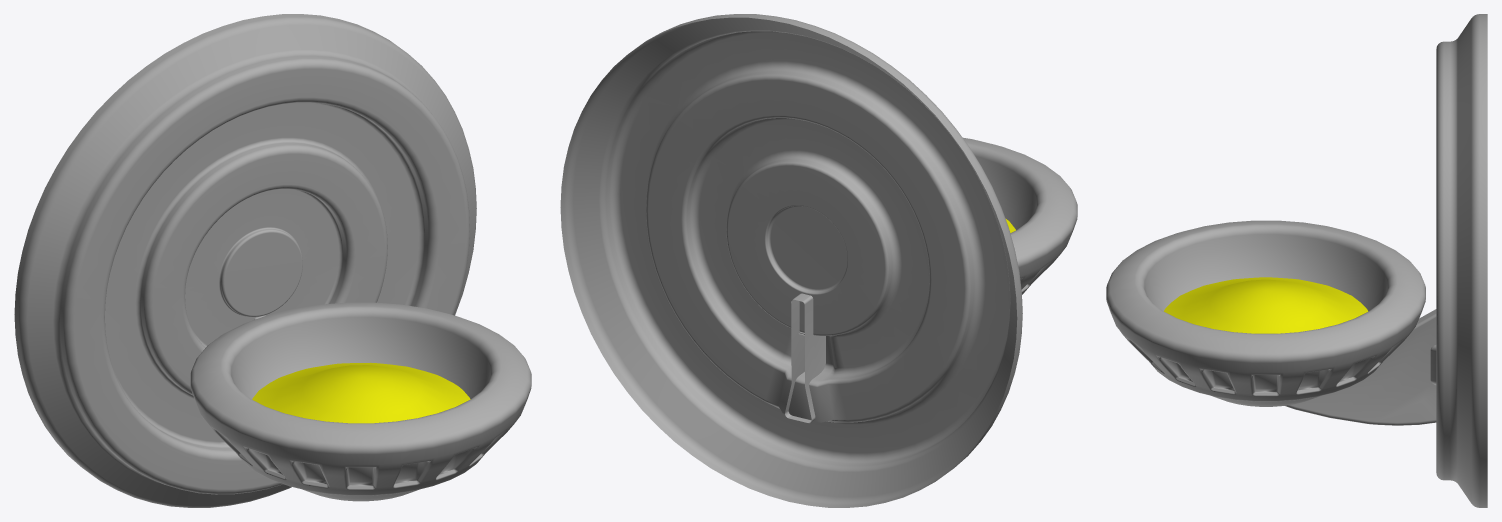
Rendered from M6_HM_P_WallTorch_26-07-2020.fbx.
3 views of the same model, side by side, from view 1: azimuth 30°, elevation 25°; view 2: azimuth 150°, elevation 25°; view 3: azimuth 270°, elevation 25° (orthographic). The views are drawn at different scales.
Visible parts, largest first — view 1: pCylinder4; view 2: pCylinder4; view 3: pCylinder4.
Part boxes in pixels (box(x1,y1,x2,y2)): pCylinder4: box(14, 14, 531, 507); pCylinder4: box(560, 14, 1077, 507); pCylinder4: box(1106, 14, 1487, 507).
Size of the model in its own units: 67.54 by 67.54 by 52.1.
